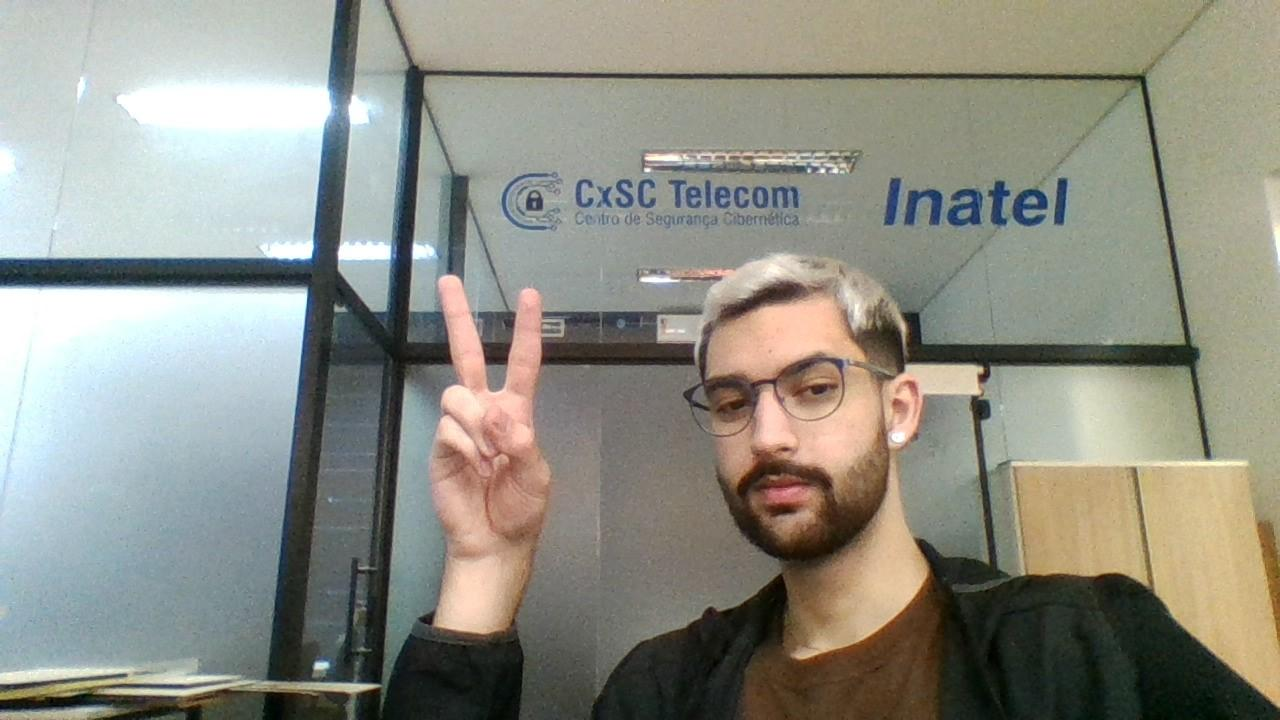V: (428, 262, 562, 584)
